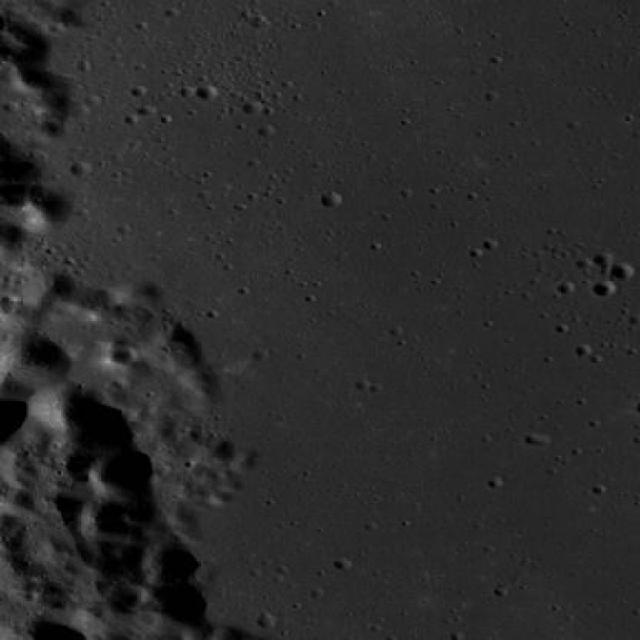crater: (115, 583, 148, 608), (214, 438, 246, 460), (112, 346, 140, 366), (607, 262, 633, 280), (590, 278, 616, 296), (318, 192, 342, 208), (592, 250, 614, 266)
